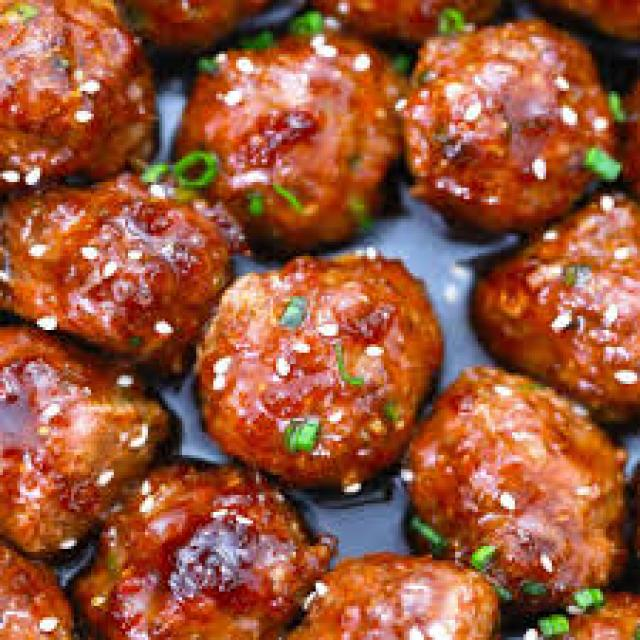meatball: (193, 240, 454, 495), (383, 360, 640, 604), (167, 32, 430, 250), (0, 167, 249, 386), (394, 15, 632, 237), (443, 182, 640, 424), (84, 459, 334, 640), (0, 328, 189, 567)
